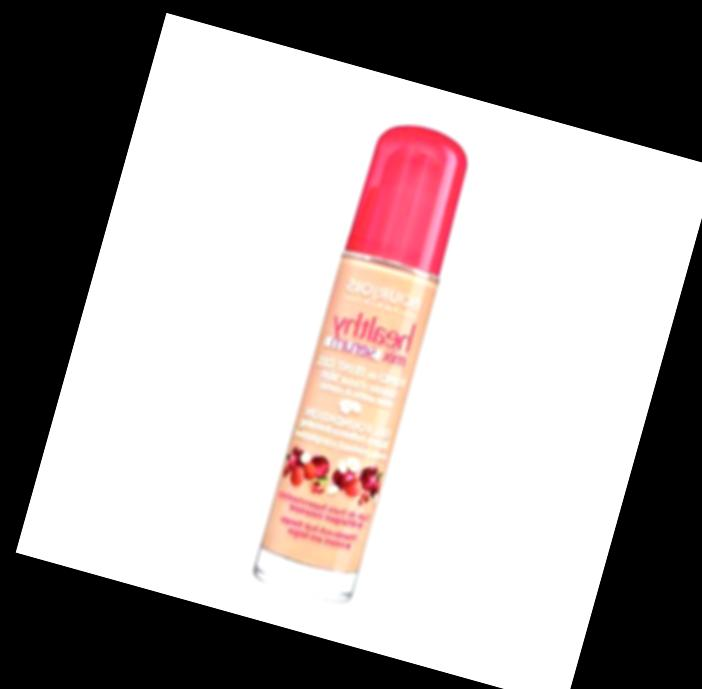cosmetic: (250, 114, 481, 604)
